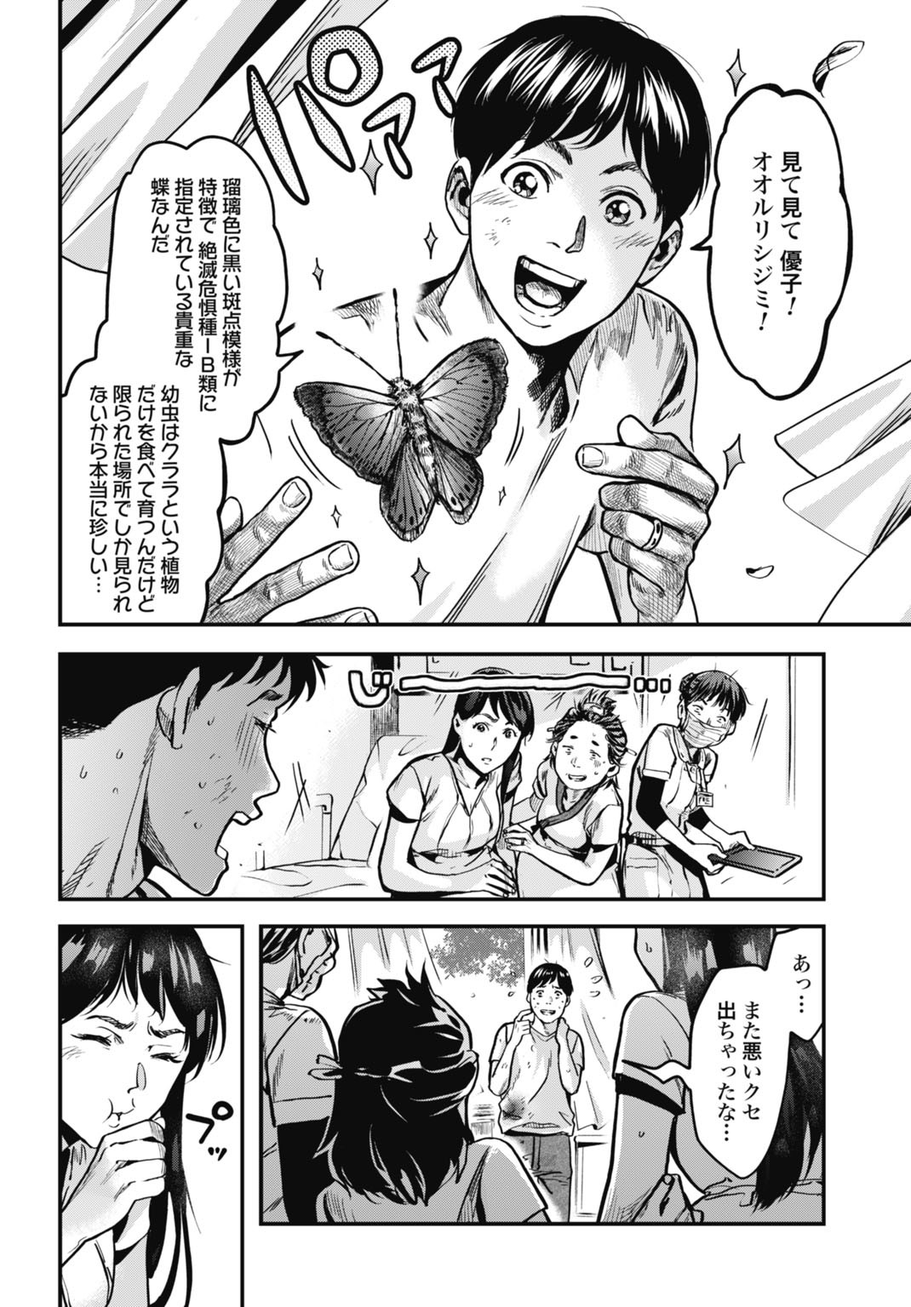bubbles: (60, 133, 309, 625), (619, 922, 828, 1184), (702, 75, 856, 409)
